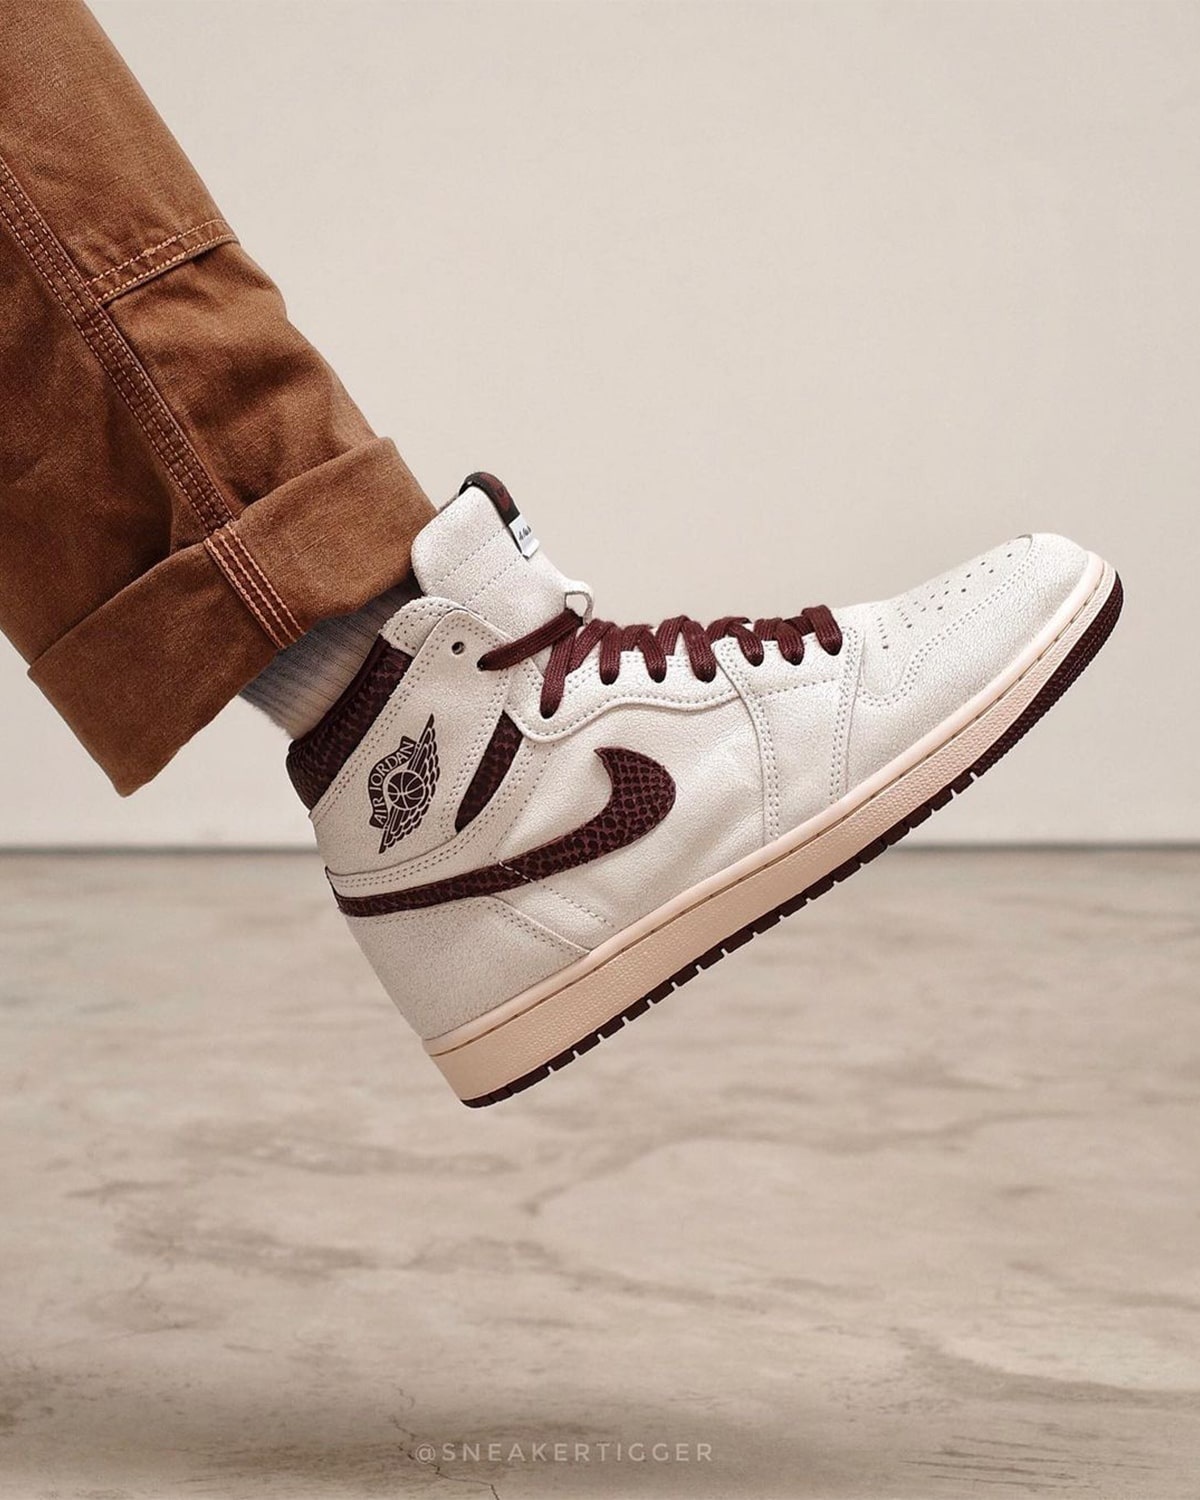Jordan 1: (275, 464, 1133, 1118)
